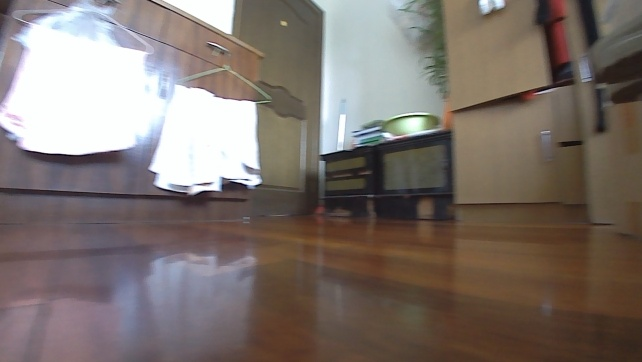door_anno: (230, 0, 325, 221)
